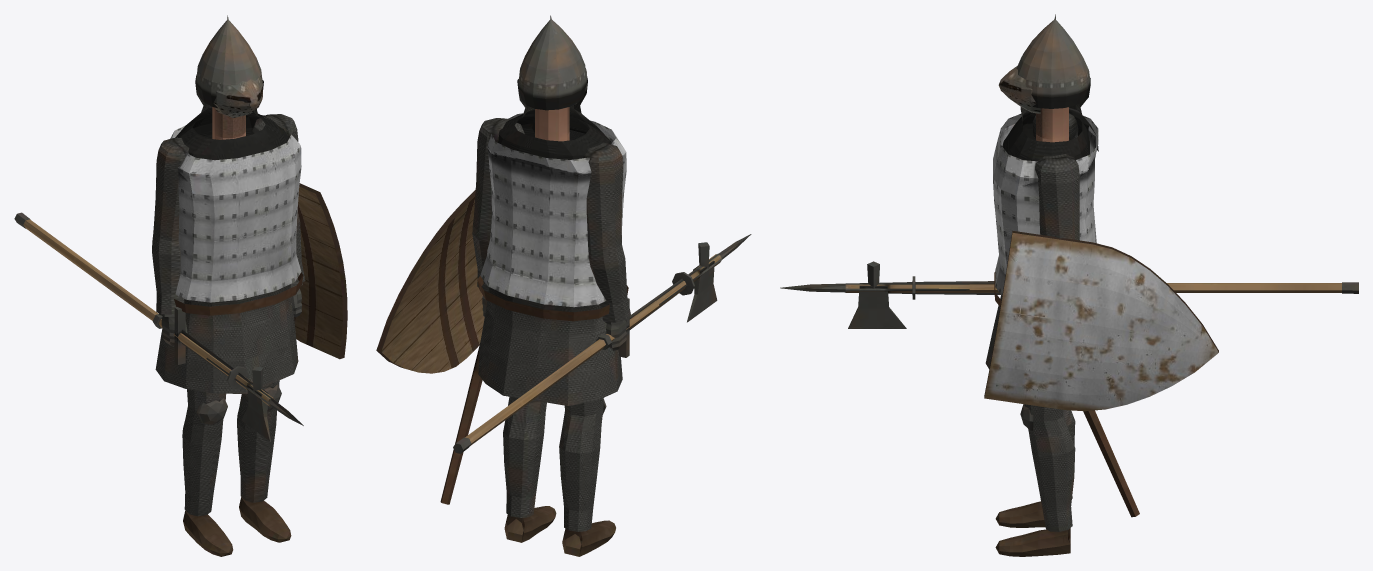
Rendered from menatarms.glb.
3 views of the same model, side by side, from view 1: azimuth 30°, elevation 25°; view 2: azimuth 150°, elevation 25°; view 3: azimuth 270°, elevation 25° (orthographic). The views are drawn at different scales.
Visible parts, largest first — view 1: menatarms_LOD0; view 2: menatarms_LOD0; view 3: menatarms_LOD0.
Boxes of the visible parts, x1,y1,x2,y2 form: menatarms_LOD0: (14,15,347,556); menatarms_LOD0: (376,15,751,556); menatarms_LOD0: (780,14,1358,556).
Size of what is drawn, in the model's own units: 0.6125 by 1.86 by 1.87.
Materials: 1 (1 with a texture image).
